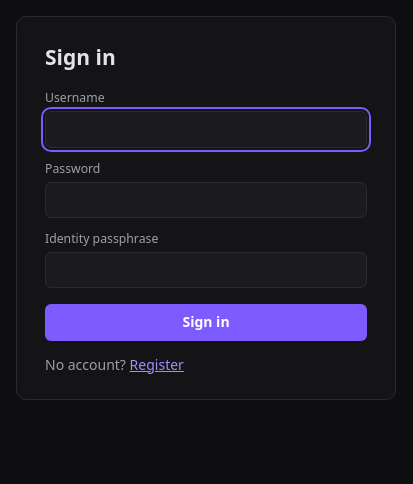
Test: test_web_login_form_renders_curated_error_without_leaking_raw_message › shows network copy on a fetch TypeError without echoing the raw message
This screenshot has width=413, height=484.
Type "alice" into the field labelled "Username". click: point(206, 130)
box: top-left (45, 111), bottom-right (367, 148)
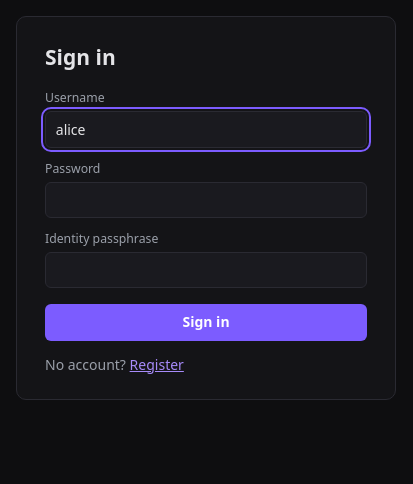
Type "passw0rd-placeholder" into the password field labelled "Password". click: point(206, 200)
box: top-left (45, 182), bottom-right (367, 218)
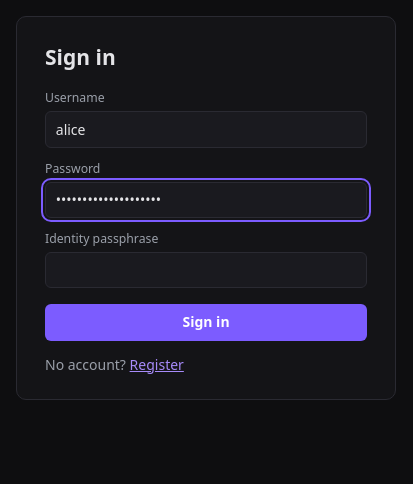
Click the button "Sign in". click: point(206, 322)
box: top-left (45, 304), bottom-right (367, 341)
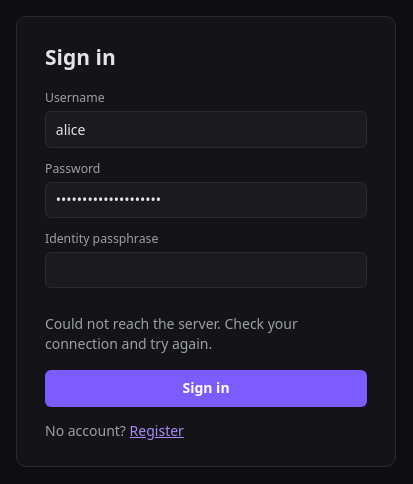
Check: the message does not show "xyz-internal-detail", box top-left (45, 314), bottom-right (298, 353)
Check: the message shows "Could not reach the server", box top-left (45, 314), bottom-right (298, 353)
